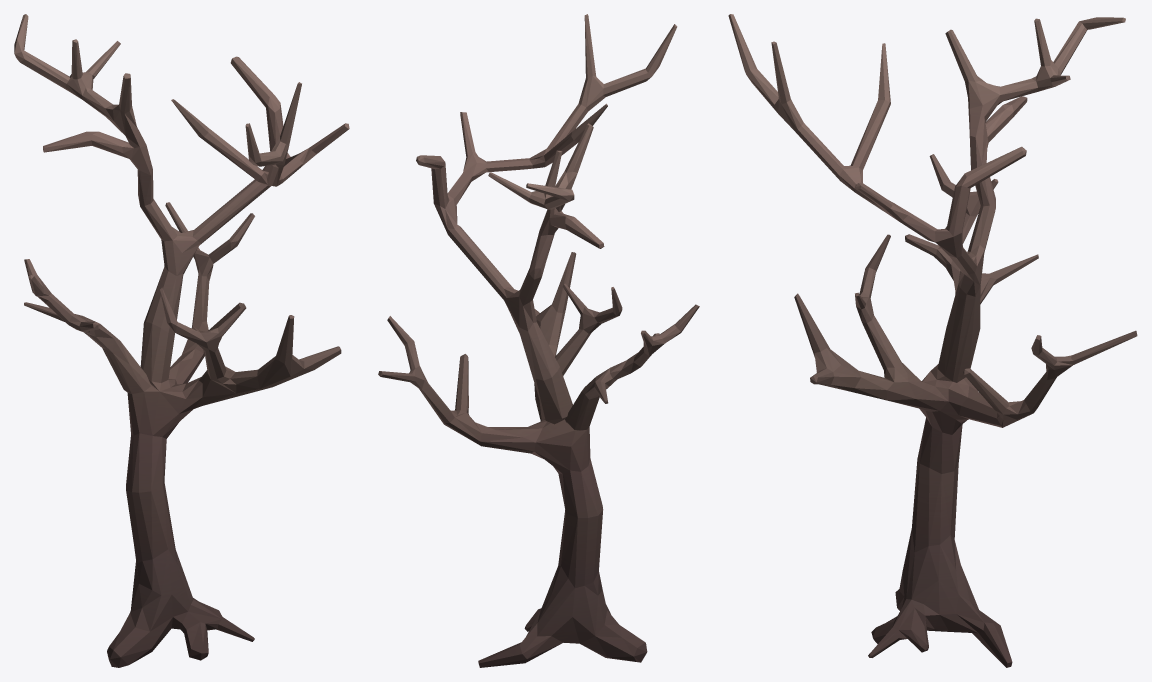
File: tree5.glb
3 renders of one model, left to right at view 1: azimuth 30°, elevation 25°; view 2: azimuth 150°, elevation 25°; view 3: azimuth 270°, elevation 25°, orthographic. The views are drawn at different scales.
Parts seen in each view (by area): view 1: tree5; view 2: tree5; view 3: tree5.
Part boxes in pixels (box(x1,y1,x2,y2)): tree5: box(14, 14, 349, 667); tree5: box(378, 14, 699, 667); tree5: box(728, 14, 1137, 667).
Bounding box in the file's own units: 2.96 × 5.99 × 3.54.
Materials: 1 (1 with a texture image).
